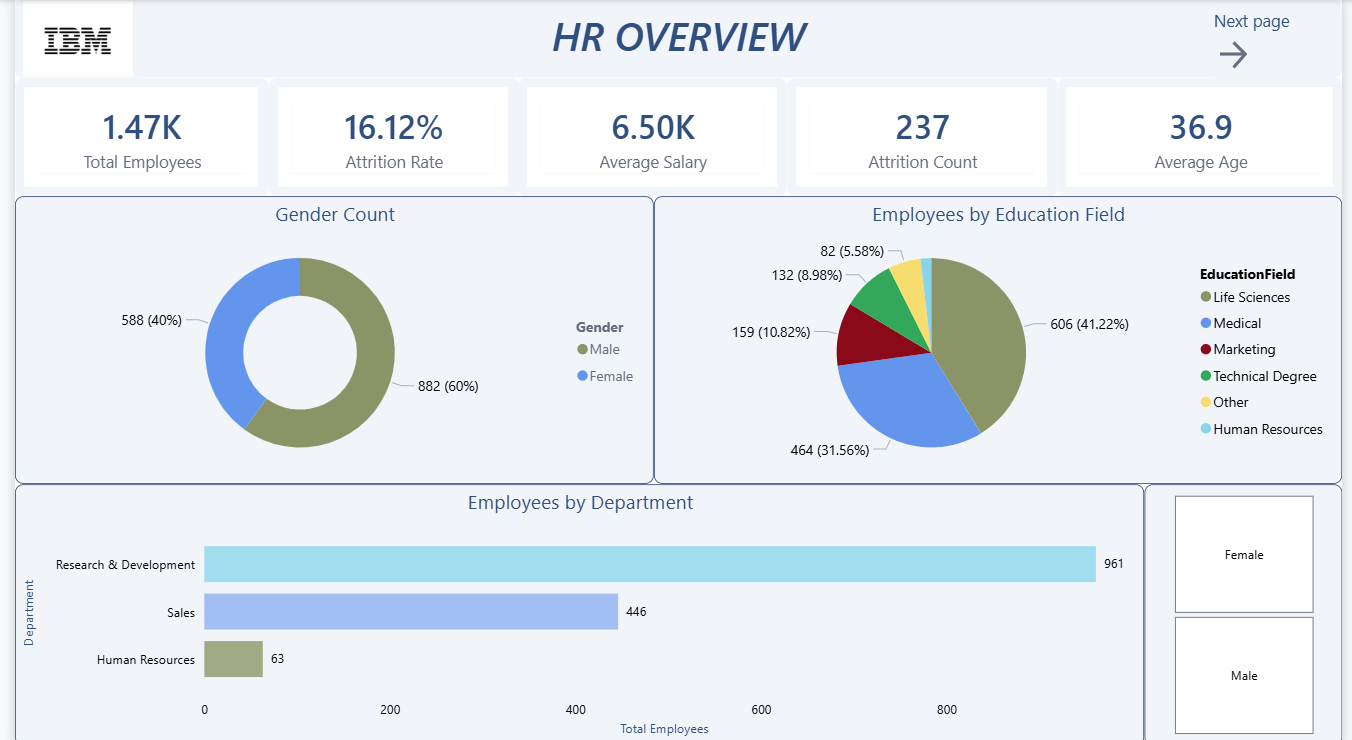

What the dashboard file says about the page in this screenshot:
{"tool":"powerbi","page":{"name":"HR OVERVIEW DASHBOARD","canvas":[1280,720],"ordinal":0},"visuals":[{"type":"textbox","box":[0,0,1280.3,75],"z":0},{"type":"cardVisual","title":"Total Employees","fields":{"Data":["hr_employees.Attrition Rate"]},"box":[244.7,75,240.8,114.5],"z":1000},{"type":"cardVisual","title":"Total Employees","fields":{"Data":["hr_employees.total_employees"]},"box":[0,75,244.7,114.5],"z":2000},{"type":"cardVisual","title":"Total Employees","fields":{"Data":["hr_employees.Average Salary"]},"box":[485.5,75,259.2,114.5],"z":3000},{"type":"cardVisual","title":"Total Employees","fields":{"Data":["hr_employees.Average Age"]},"box":[1005.3,75,275,114.5],"z":4000},{"type":"donutChart","title":"Gender Count","fields":{"Y":["hr_employees.Gender Count"],"Category":["hr_employees.Gender"]},"box":[0,189.3,616.4,277.9],"z":5000},{"type":"cardVisual","title":"Total Employees","fields":{"Data":["hr_employees.Attrition Count"]},"box":[744.7,75,260.5,114.5],"z":6000},{"type":"clusteredBarChart","title":"Employees by Department","fields":{"Category":["hr_employees.Department"],"Y":["hr_employees.total_employees"]},"box":[0,467.1,1089.6,252.4],"z":7000},{"type":"pieChart","title":"Employees by Education Field","fields":{"Category":["hr_employees.EducationField"],"Y":["hr_employees.total_employees"]},"box":[616.4,189.3,663.7,277.9],"z":8000},{"type":"slicer","fields":{"Values":["hr_employees.Gender"]},"box":[1089.6,467.1,190.5,252.4],"z":9000},{"type":"actionButton","title":"Next page","box":[1152.7,4.9,127.4,70.4],"z":9001},{"type":"image","box":[0,0,122.5,75.2],"z":9002}]}

Visuals, with their boxes in screenshot pixels (x1, y1, x2, y2), scaled from the page's 1280x720 canvas onto the 1352x740 screenshot:
textbox: [0, 0, 1351, 77]
"Total Employees" cardVisual: [258, 77, 513, 195]
"Total Employees" cardVisual: [0, 77, 258, 195]
"Total Employees" cardVisual: [513, 77, 787, 195]
"Total Employees" cardVisual: [1062, 77, 1351, 195]
"Gender Count" donutChart: [0, 195, 651, 480]
"Total Employees" cardVisual: [787, 77, 1062, 195]
"Employees by Department" clusteredBarChart: [0, 480, 1151, 739]
"Employees by Education Field" pieChart: [651, 195, 1351, 480]
slicer - hr_employees.Gender: [1151, 480, 1351, 739]
"Next page" actionButton: [1218, 5, 1351, 77]
image: [0, 0, 129, 77]
